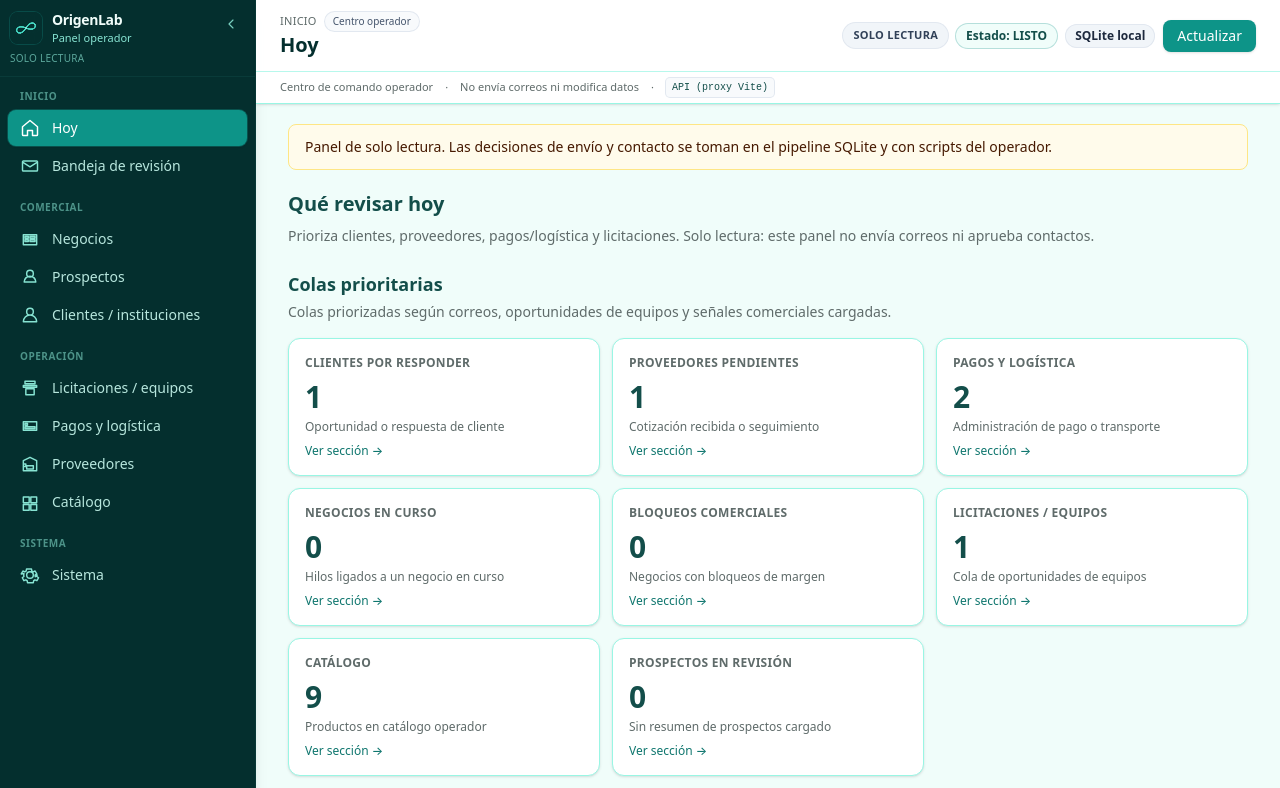
it: DashboardApp shell (Phase 7B.1) › Inbox page contains warm cases table
The width and height of the screenshot is (1280, 788).
Click the link "Bandeja de revisión" at point(100, 166), box [20,156,181,176]
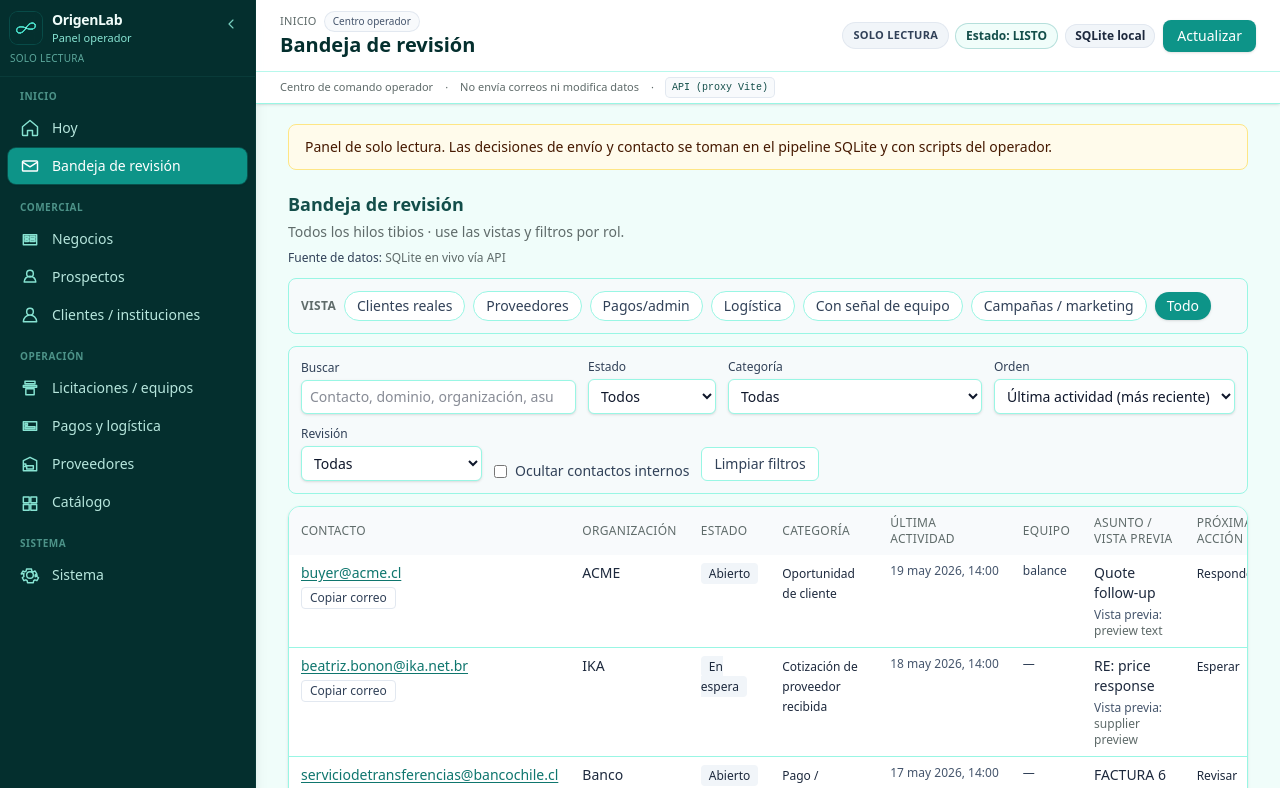
Expected: the heading "Bandeja de revisión" below "Centro operador" is shown, [280,31,475,58]
Expected: the button "buyer@acme.cl" is shown, [301,563,401,583]
